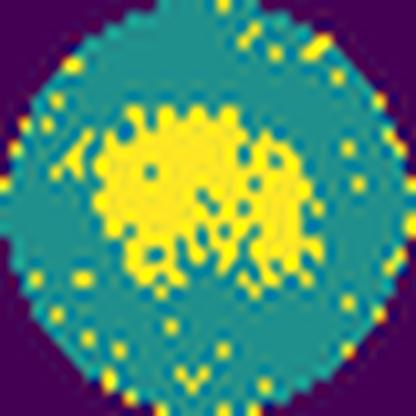Center: (98, 106, 327, 302)
